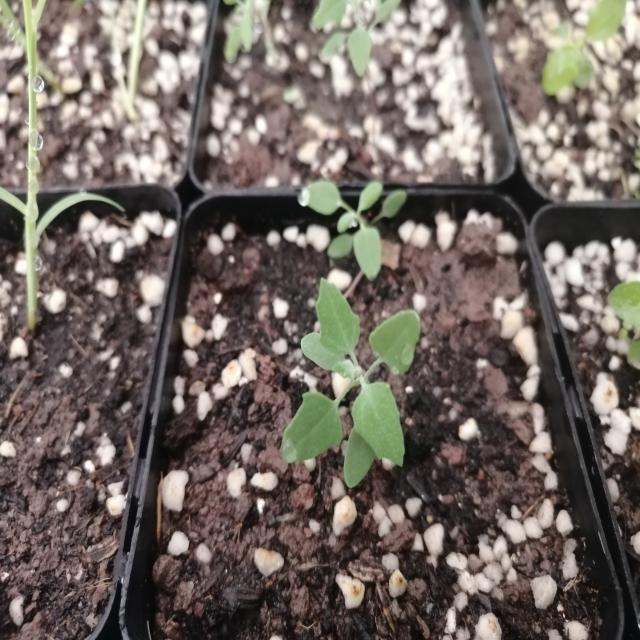goosefoots: (271, 275, 429, 500), (284, 160, 449, 290)
